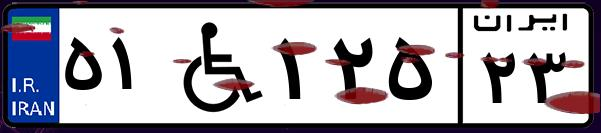1: (270, 28, 330, 110), (110, 28, 158, 98)
2: (330, 28, 385, 110), (475, 38, 525, 113)
3: (525, 38, 570, 115)
5: (385, 28, 445, 110), (57, 26, 110, 100)
ژ (معلولین و جانبازان): (158, 12, 270, 120)
